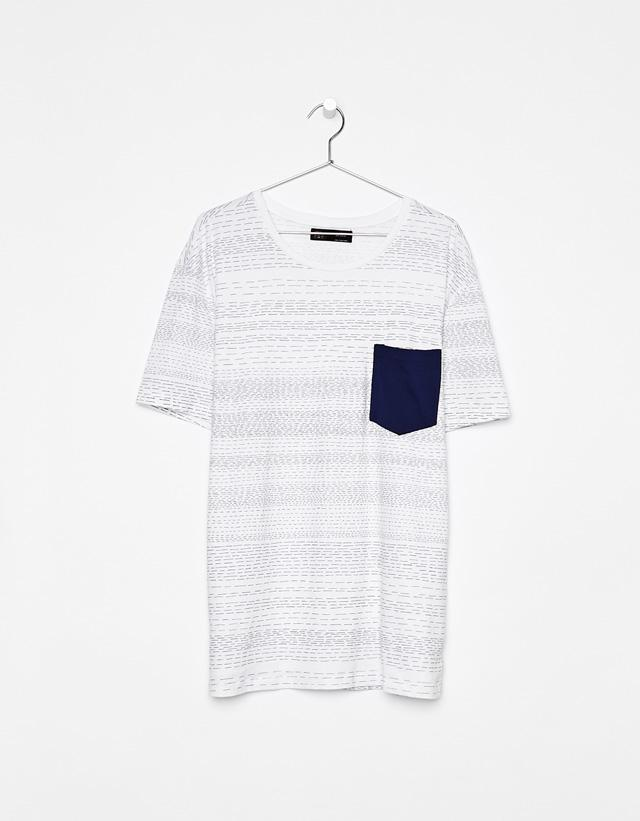teeshirt: (110, 190, 517, 729)
